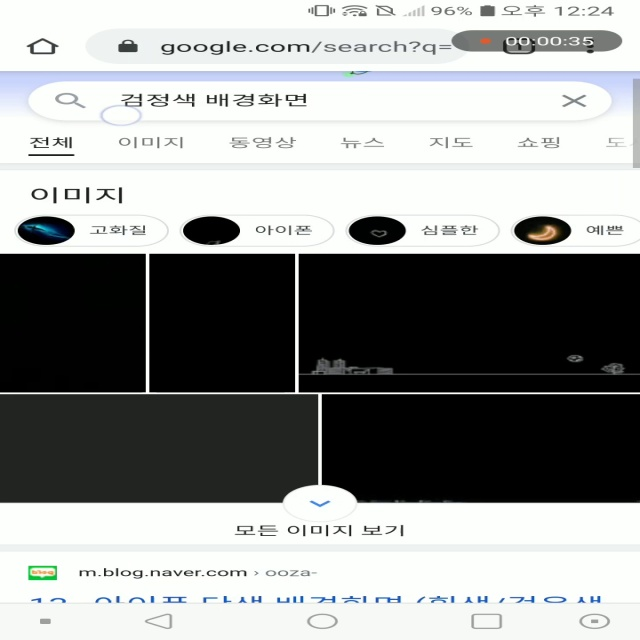Cursor: (97, 105, 142, 128)
